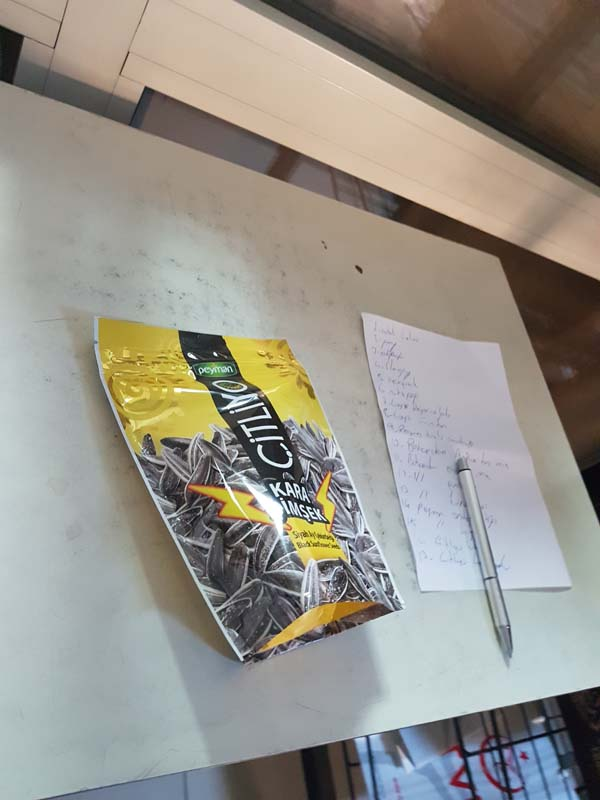citliyokarasimsek: (91, 309, 411, 671)
